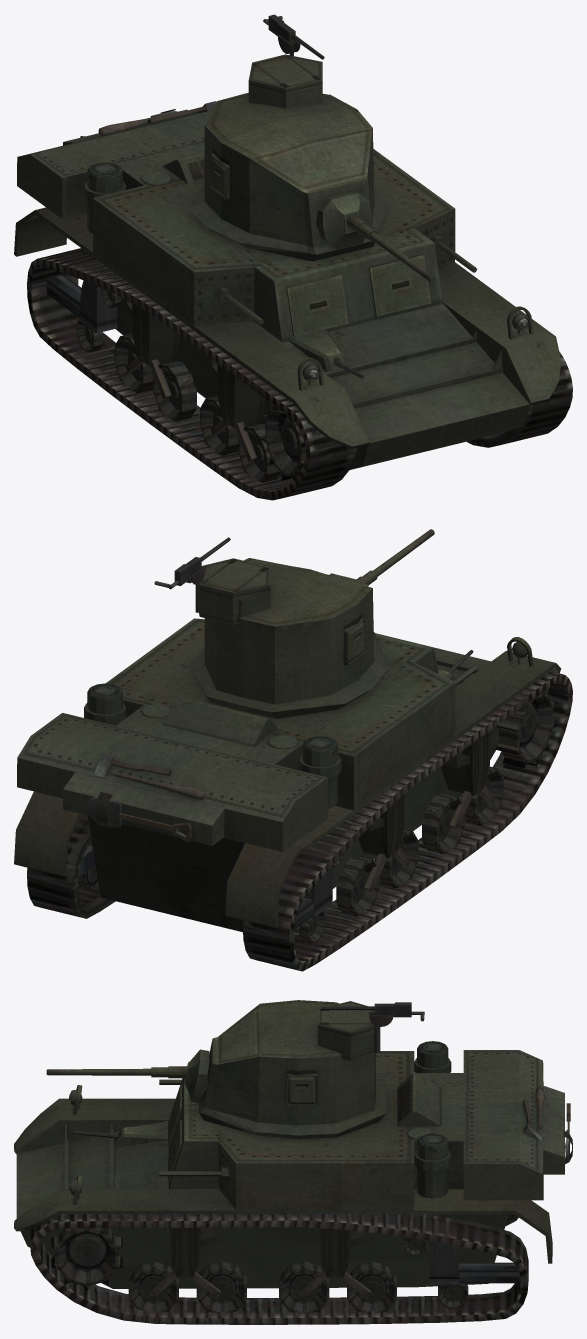
The model's file is M3Stewart.FBX.
The picture shows the model from 3 angles, top to bottom: view 1: azimuth 30°, elevation 25°; view 2: azimuth 150°, elevation 25°; view 3: azimuth 270°, elevation 25°; orthographic projection. The views are drawn at different scales.
Visible parts, largest first — view 1: 轻坦克 m3斯图亚特; view 2: 轻坦克 m3斯图亚特; view 3: 轻坦克 m3斯图亚特.
Part boxes in pixels (x1,y1,x2,y2): 轻坦克 m3斯图亚特: (14,14,572,500); 轻坦克 m3斯图亚特: (14,529,572,971); 轻坦克 m3斯图亚特: (14,1000,572,1324).
Size of the model in its own units: 1.42 by 1.65 by 2.94.
Materials: 2 (2 with a texture image).
